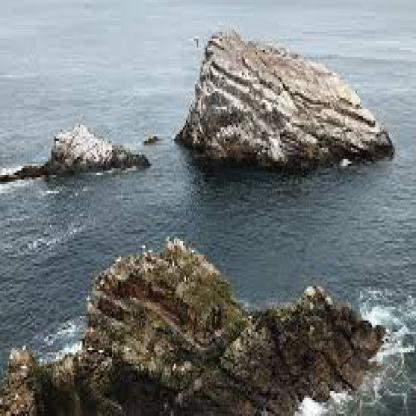Metamorphic_Quartize: (6, 230, 392, 414), (175, 16, 401, 184), (14, 111, 151, 189)
